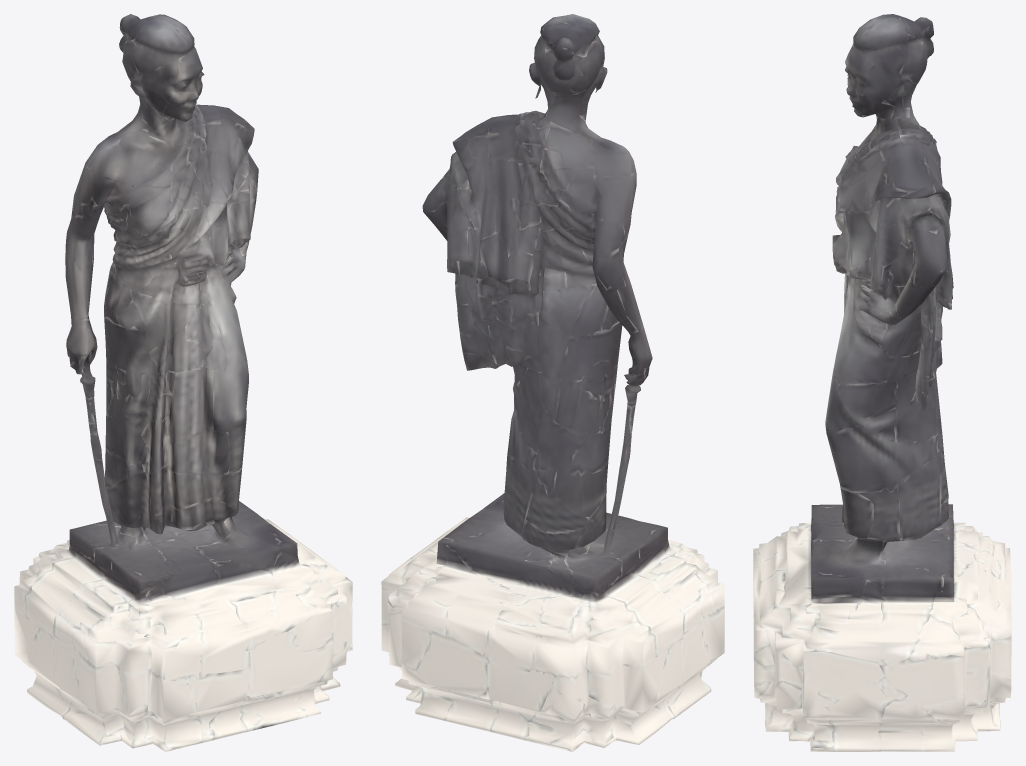
The model's file is Yamo.glb.
The picture shows the model from 3 angles, left to right: view 1: azimuth 30°, elevation 25°; view 2: azimuth 150°, elevation 25°; view 3: azimuth 270°, elevation 25°; orthographic projection. The views are drawn at different scales.
Visible parts, largest first — view 1: Mesh_0; view 2: Mesh_0; view 3: Mesh_0.
Part boxes in pixels (bbox=[...]): Mesh_0: bbox=[14, 14, 352, 751]; Mesh_0: bbox=[381, 14, 724, 751]; Mesh_0: bbox=[753, 14, 1011, 751].
Bounding box in the file's own units: 0.4592 × 1.14 × 0.4013.
Materials: 1 (1 with a texture image).
